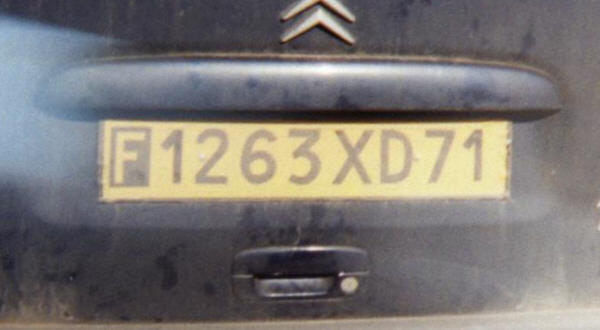license_plate: (98, 118, 512, 206)
